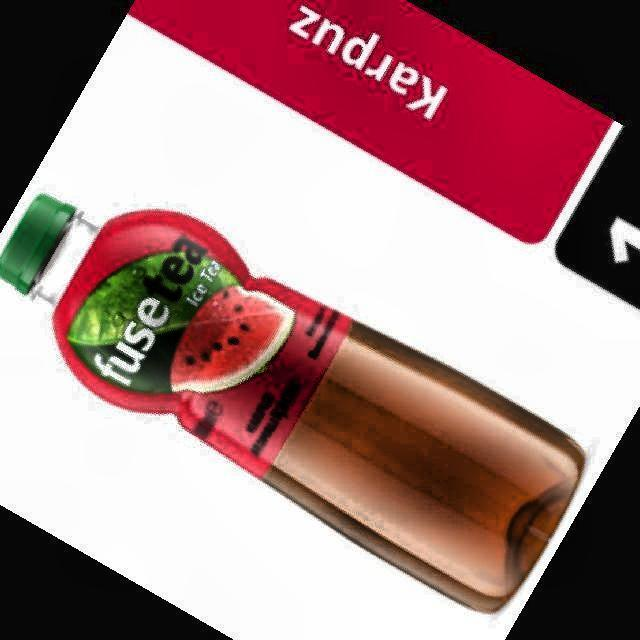plastic: (0, 195, 584, 611)
